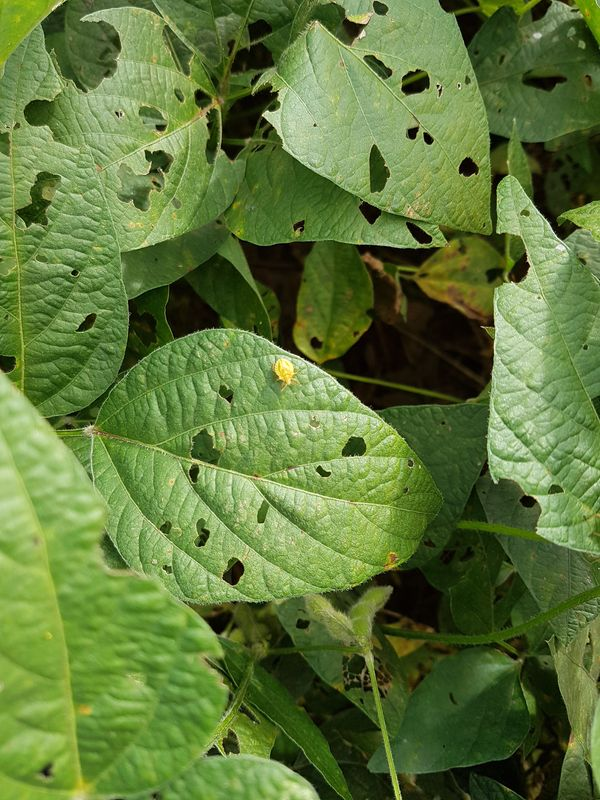Euschistus_heros_ninfa: (267, 354, 302, 392)
